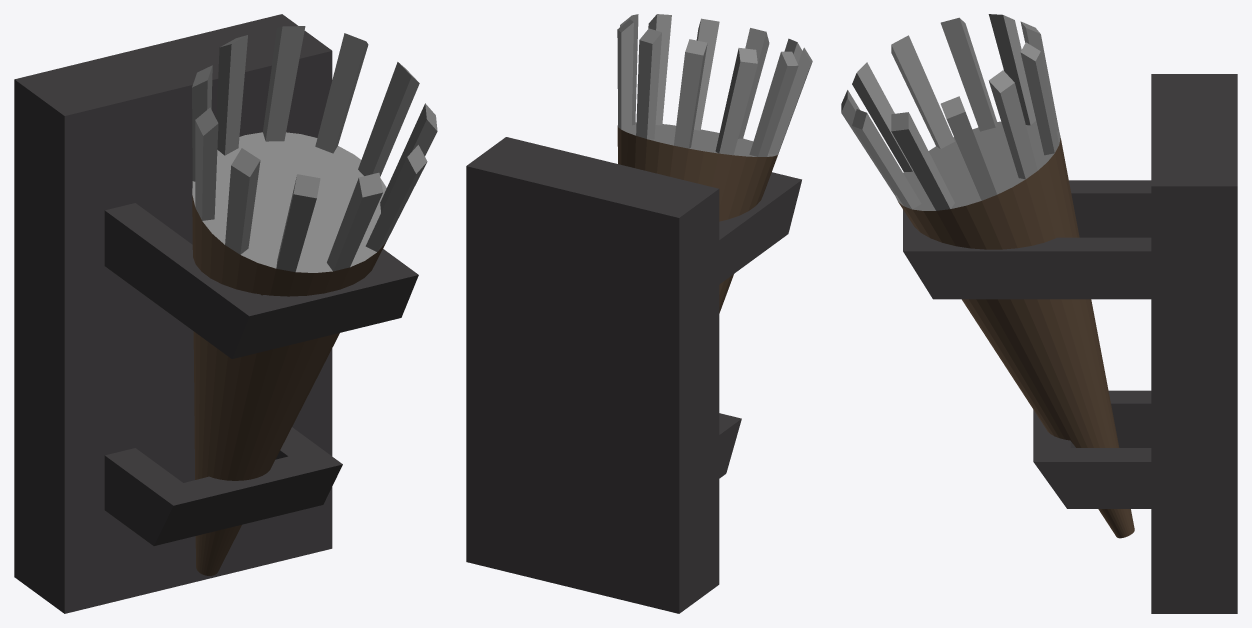
The model's file is Pochodnia.fbx.
3 renders of one model, left to right at view 1: azimuth 30°, elevation 25°; view 2: azimuth 150°, elevation 25°; view 3: azimuth 270°, elevation 25°, orthographic. The views are drawn at different scales.
Parts seen in each view (by area): view 1: Cube, Cylinder; view 2: Cube, Cylinder; view 3: Cube, Cylinder.
Boxes of the visible parts, box(x1,y1,x2,y2) form: Cube: box(14, 14, 418, 613); Cylinder: box(192, 26, 437, 575); Cube: box(466, 137, 801, 613); Cylinder: box(617, 14, 812, 313); Cube: box(903, 74, 1237, 613); Cylinder: box(841, 14, 1134, 538).
Size of the model in its own units: 200 by 432 by 299.
